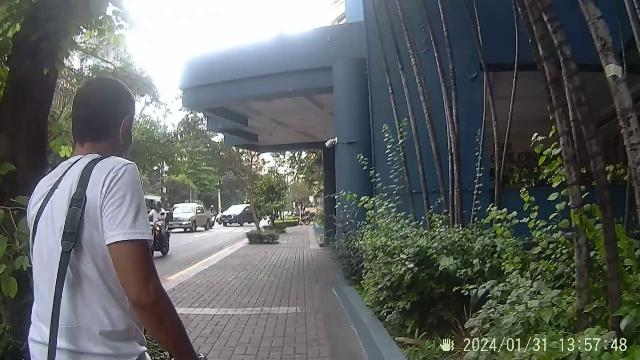tree: (242, 151, 278, 243)
